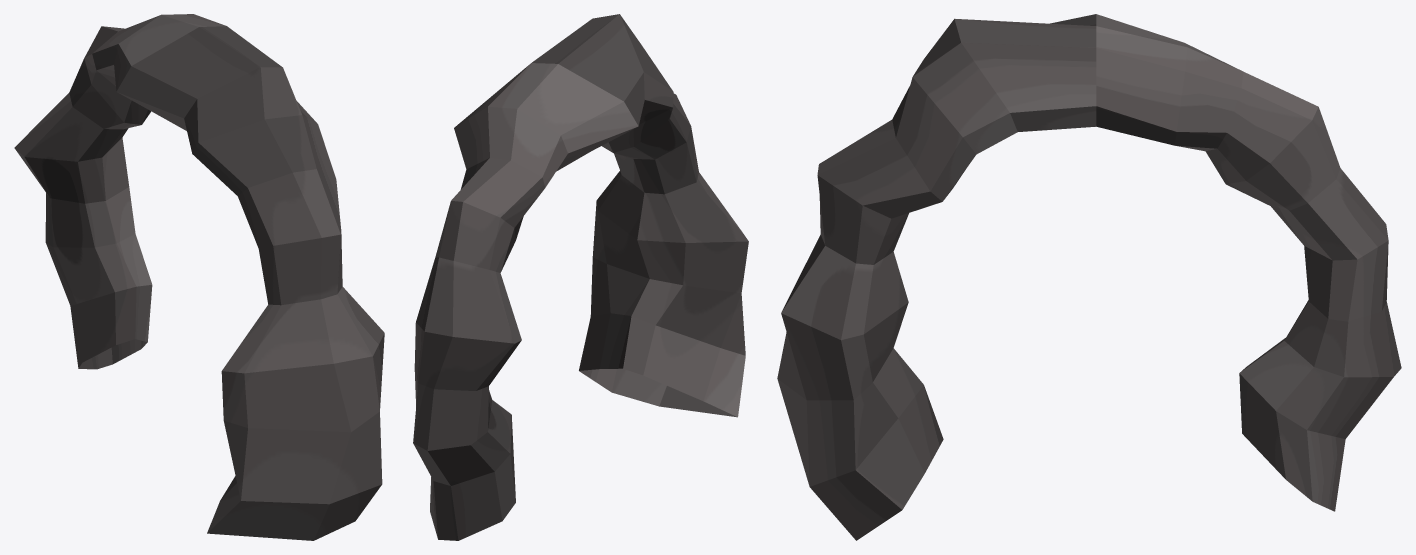
File: MagaraHalka.fbx
3 views of the same model, side by side, from view 1: azimuth 30°, elevation 25°; view 2: azimuth 150°, elevation 25°; view 3: azimuth 270°, elevation 25° (orthographic). The views are drawn at different scales.
Parts seen in each view (by area): view 1: Torus; view 2: Torus; view 3: Torus.
Boxes of the visible parts, left/top/right/bottom form: Torus: left=14, top=14, right=384, bottom=540; Torus: left=413, top=14, right=748, bottom=540; Torus: left=777, top=14, right=1401, bottom=540.
Bounding box in the file's own units: 145 × 377 × 426.
1 material, 1 textured.
